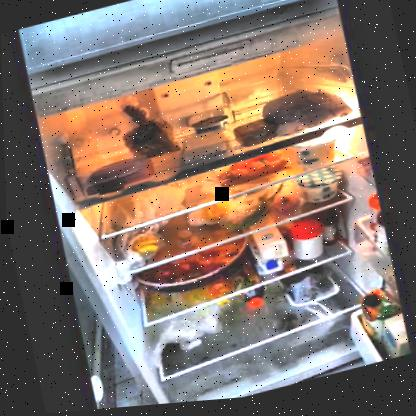broccoli: (281, 271, 335, 312), (219, 203, 275, 239)
butter: (232, 121, 277, 149)
carrot: (215, 153, 290, 190)
cheese: (179, 132, 227, 162)
lemon: (128, 233, 165, 261), (200, 203, 229, 226)
milk: (249, 230, 288, 280)
salami: (88, 158, 136, 182)
tomato: (265, 195, 299, 222)
yoghurt: (293, 170, 345, 211), (291, 139, 337, 174), (190, 115, 230, 139)
